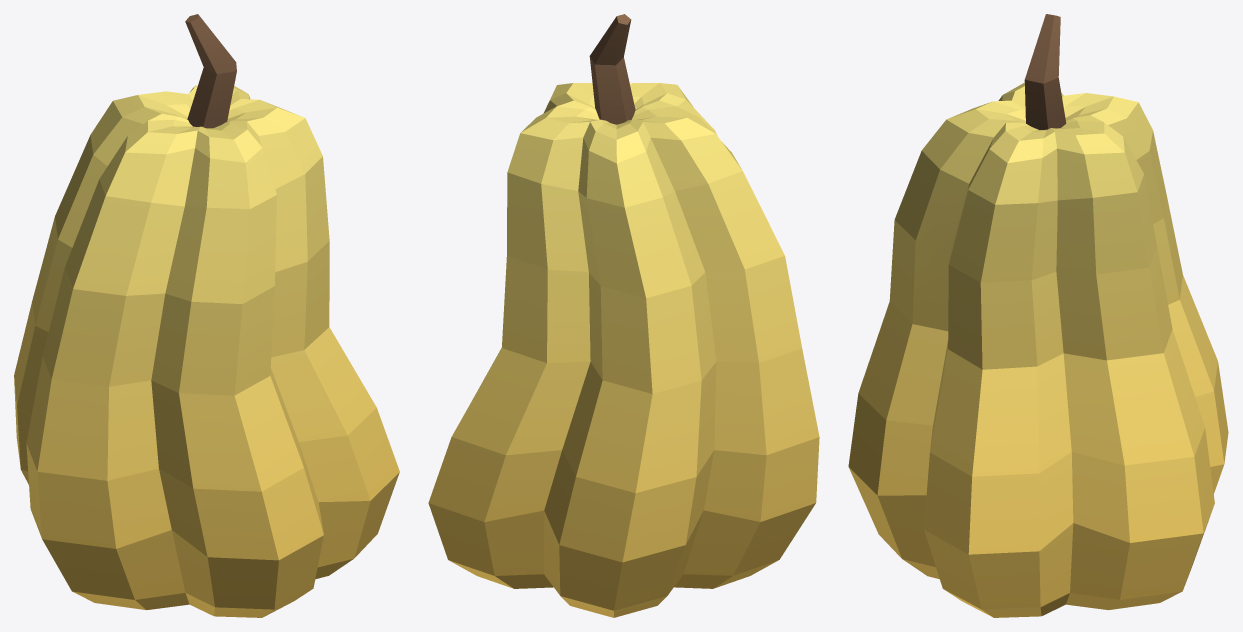
The model's file is pumpkin-2-yellow.glb.
The picture shows the model from 3 angles, left to right: view 1: azimuth 30°, elevation 25°; view 2: azimuth 150°, elevation 25°; view 3: azimuth 270°, elevation 25°; orthographic projection.
Parts seen in each view (by area): view 1: pumpkin 2 yellow; view 2: pumpkin 2 yellow; view 3: pumpkin 2 yellow.
Part boxes in pixels (left/top/right/bottom): pumpkin 2 yellow: left=14, top=14, right=399, bottom=617; pumpkin 2 yellow: left=428, top=14, right=819, bottom=617; pumpkin 2 yellow: left=848, top=14, right=1228, bottom=617.
Size of the model in its own units: 0.4535 by 0.6955 by 0.4402.
Materials: 1 (1 with a texture image).
